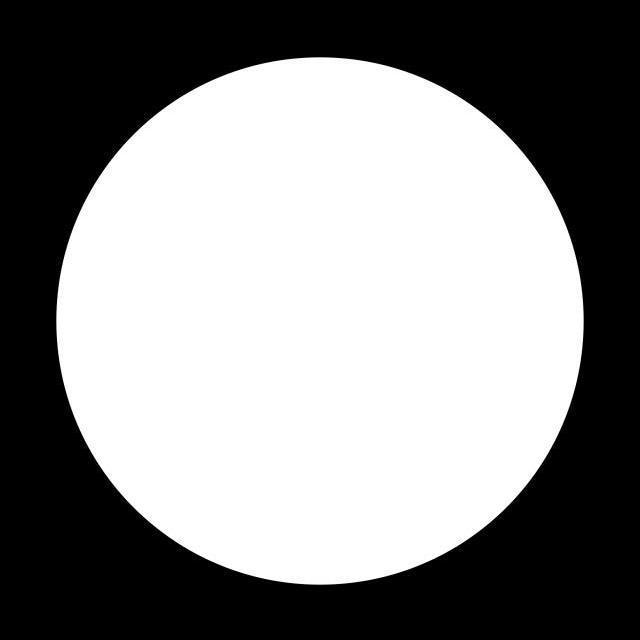Circle: (52, 50, 594, 589)
